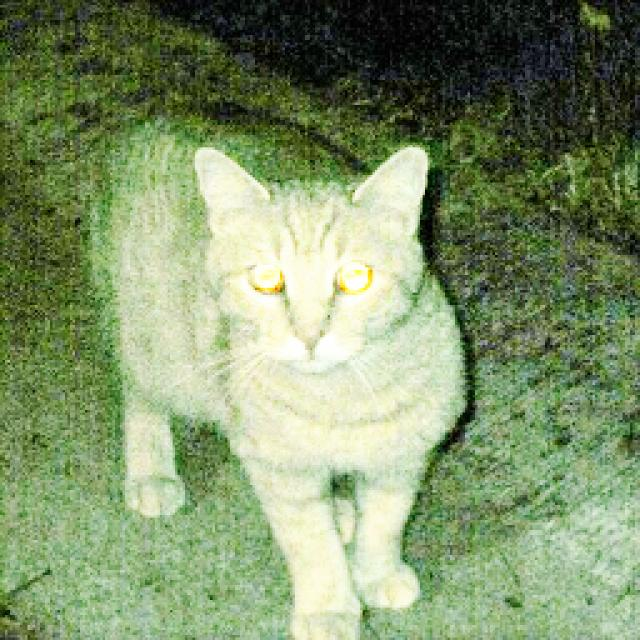cat: (36, 86, 450, 640)
